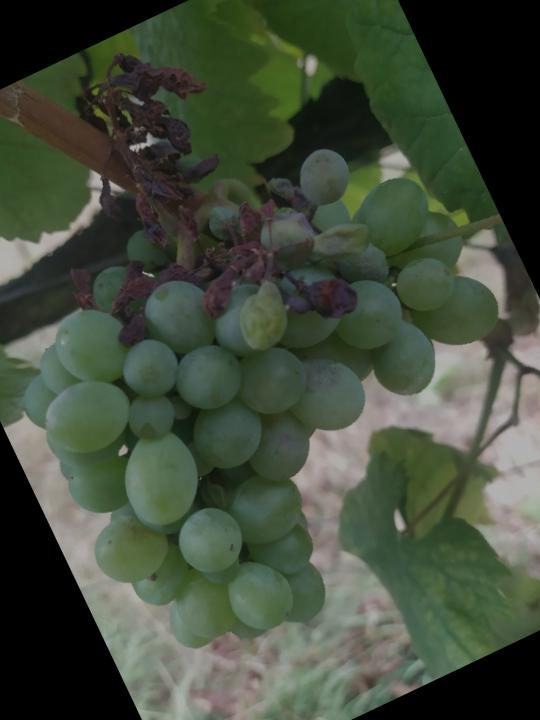grape: (0, 0, 540, 697)
